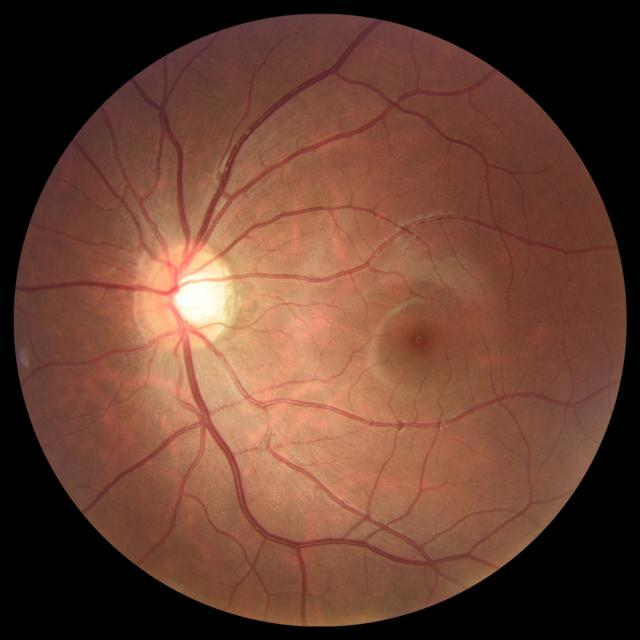OC: (170, 272, 224, 323)
OD: (138, 242, 232, 350)
